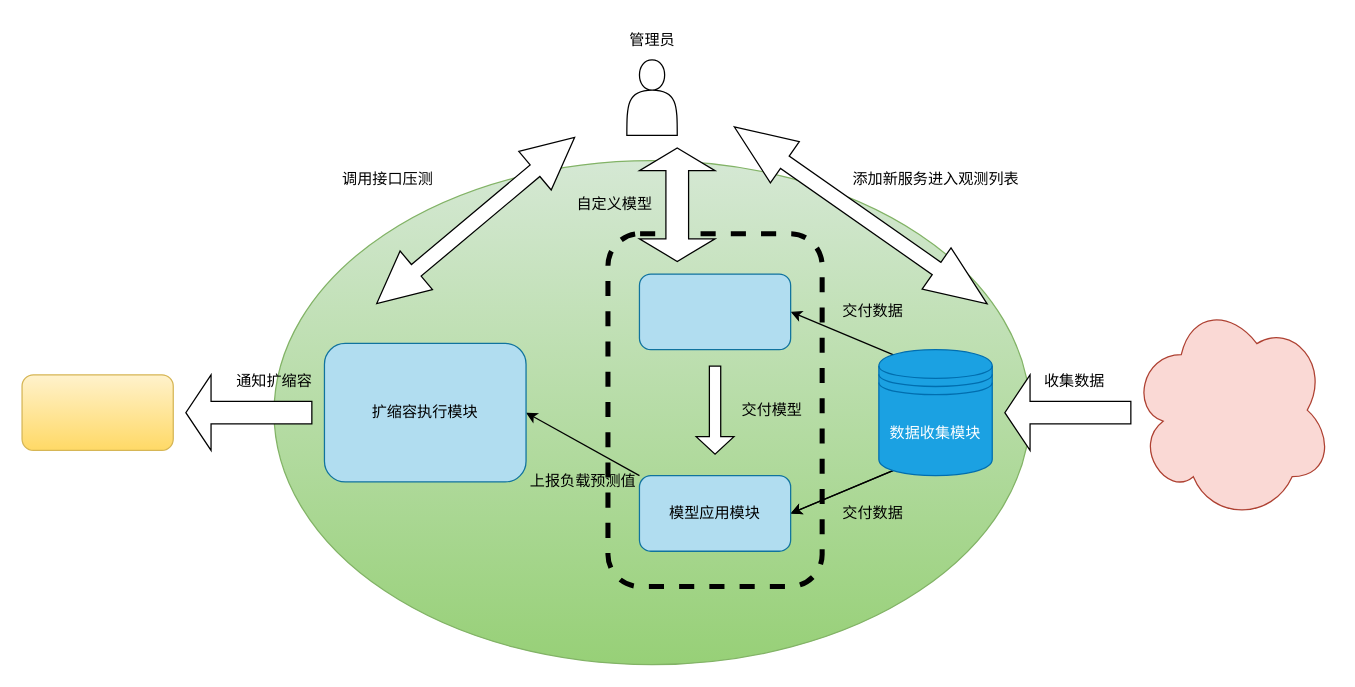
The diagram is 1355 pixels wide and 687 high, and some of its shapes have lost their labels. Here are the shapes that lost their labels. From the top down, the centre of each, then its label:
At (x=714, y=311): "时序建模模块".
At (x=97, y=412): "Kubernetes API".
At (x=1231, y=409): "Service Pods".
